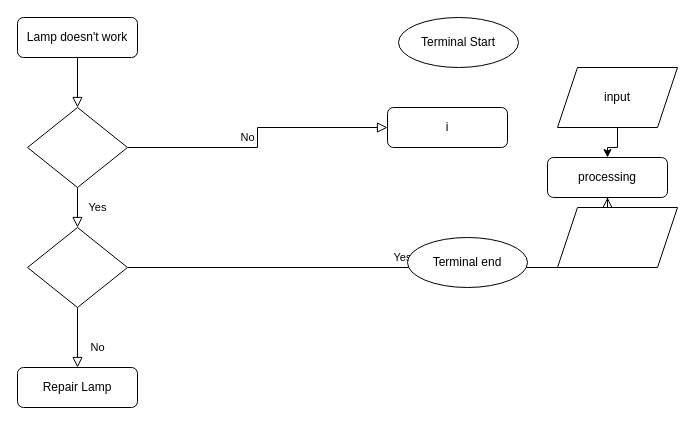
Some shapes in this 695 by 425 pixel diagram are drawn without their labels. Each missing label, with the centre of its shape:
"Bulb burned out?" belongs at (x=77, y=267).
"Lamp plugged in?" belongs at (x=77, y=147).
"Output" belongs at (x=617, y=237).
